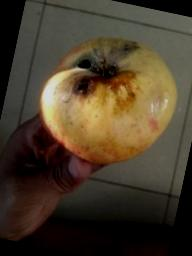Apple Rotten: (26, 13, 192, 187)
